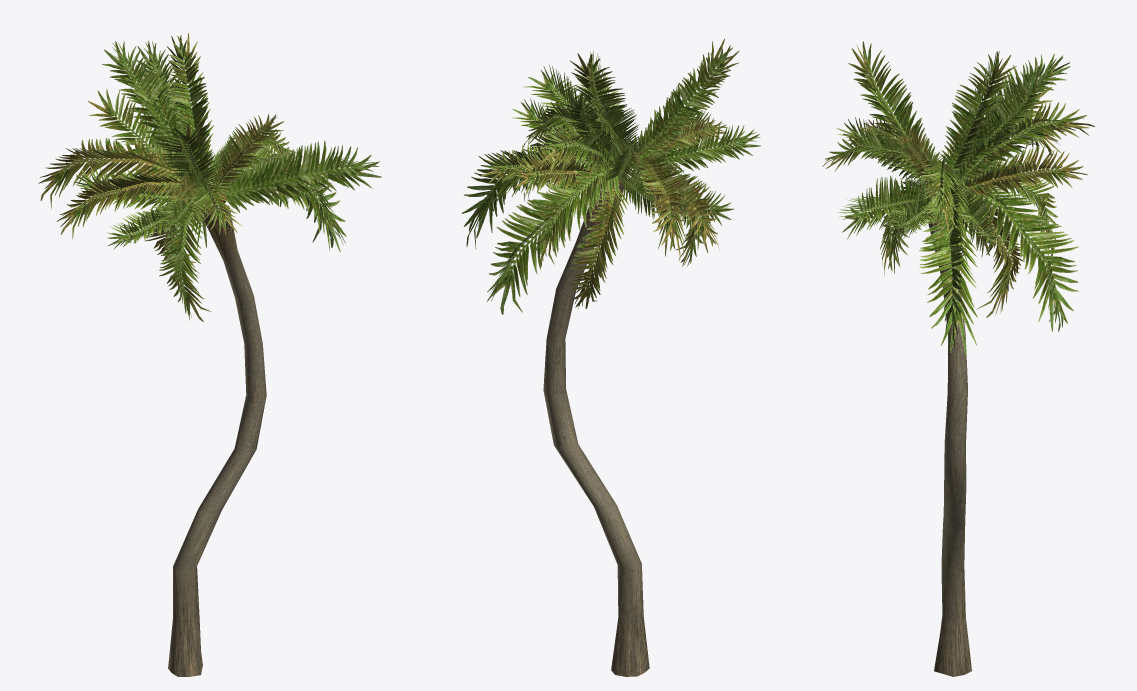
Rendered from coconut_palm5.fbx.
The picture shows the model from 3 angles, left to right: view 1: azimuth 30°, elevation 25°; view 2: azimuth 150°, elevation 25°; view 3: azimuth 270°, elevation 25°; orthographic projection. The views are drawn at different scales.
Visible parts, largest first — view 1: coconut_palm5_leaves, coconut_palm5_trunk; view 2: coconut_palm5_leaves, coconut_palm5_trunk; view 3: coconut_palm5_leaves, coconut_palm5_trunk.
Boxes of the visible parts, left/top/right/bottom form: coconut_palm5_leaves: left=38, top=33, right=381, bottom=321; coconut_palm5_trunk: left=168, top=191, right=266, bottom=676; coconut_palm5_leaves: left=461, top=38, right=760, bottom=314; coconut_palm5_trunk: left=543, top=166, right=649, bottom=676; coconut_palm5_leaves: left=822, top=41, right=1094, bottom=357; coconut_palm5_trunk: left=928, top=180, right=971, bottom=676.
Size of the model in its own units: 320 by 621 by 273.
